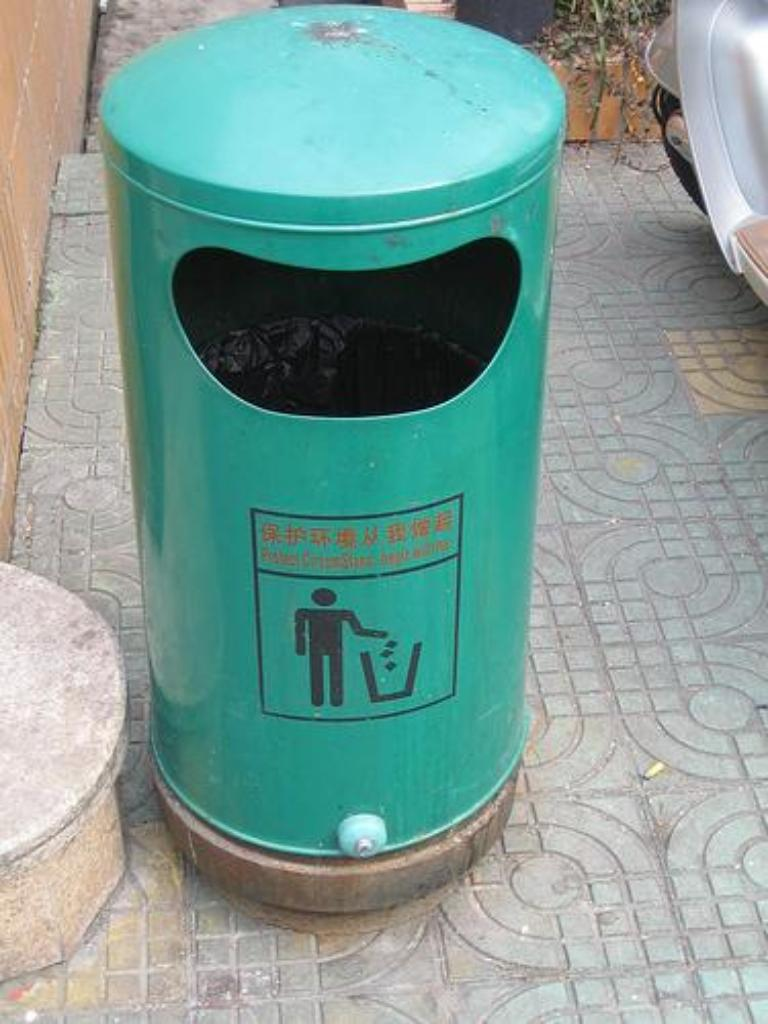dustbin: (69, 15, 593, 914)
